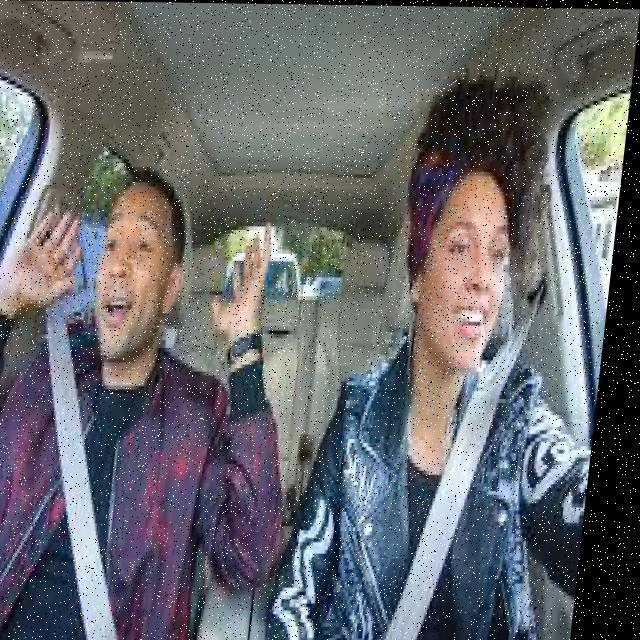seatbelt: (0, 338, 220, 640), (343, 347, 550, 640)
